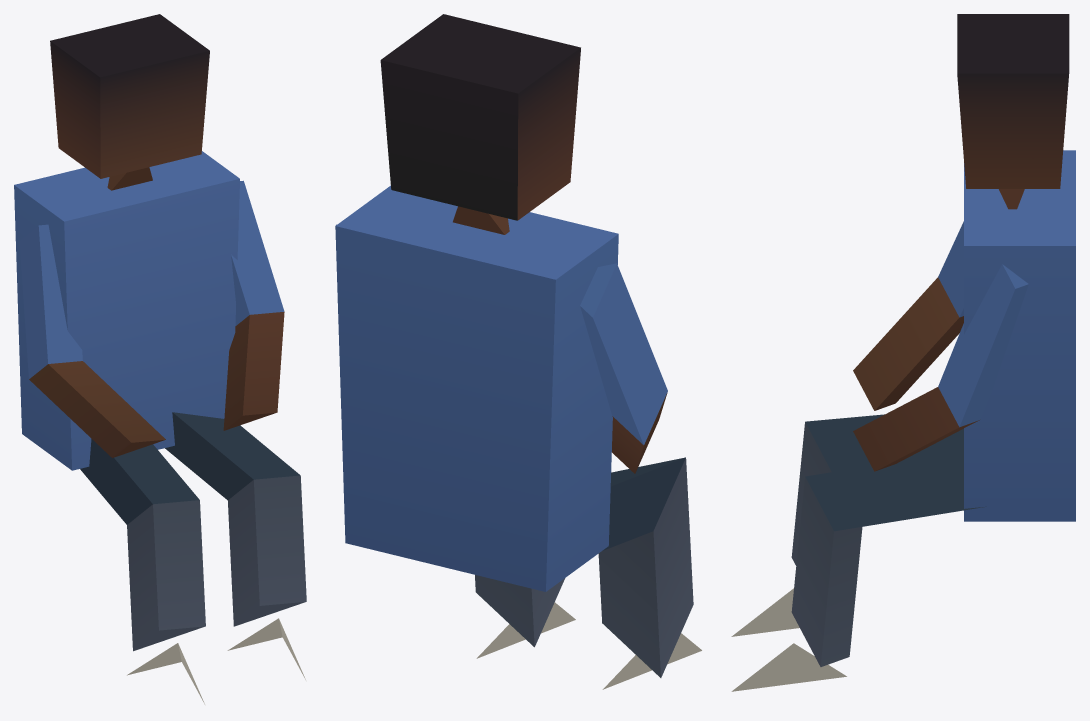
File: fan-04.glb
The picture shows the model from 3 angles, left to right: view 1: azimuth 30°, elevation 25°; view 2: azimuth 150°, elevation 25°; view 3: azimuth 270°, elevation 25°; orthographic projection. The views are drawn at different scales.
Visible parts, largest first — view 1: fan-04; view 2: fan-04; view 3: fan-04.
Part boxes in pixels (x1,y1,x2,y2): fan-04: (14, 14, 306, 704); fan-04: (335, 14, 701, 689); fan-04: (731, 14, 1075, 691).
Bounding box in the file's own units: 0.7075 × 1.53 × 0.77.
